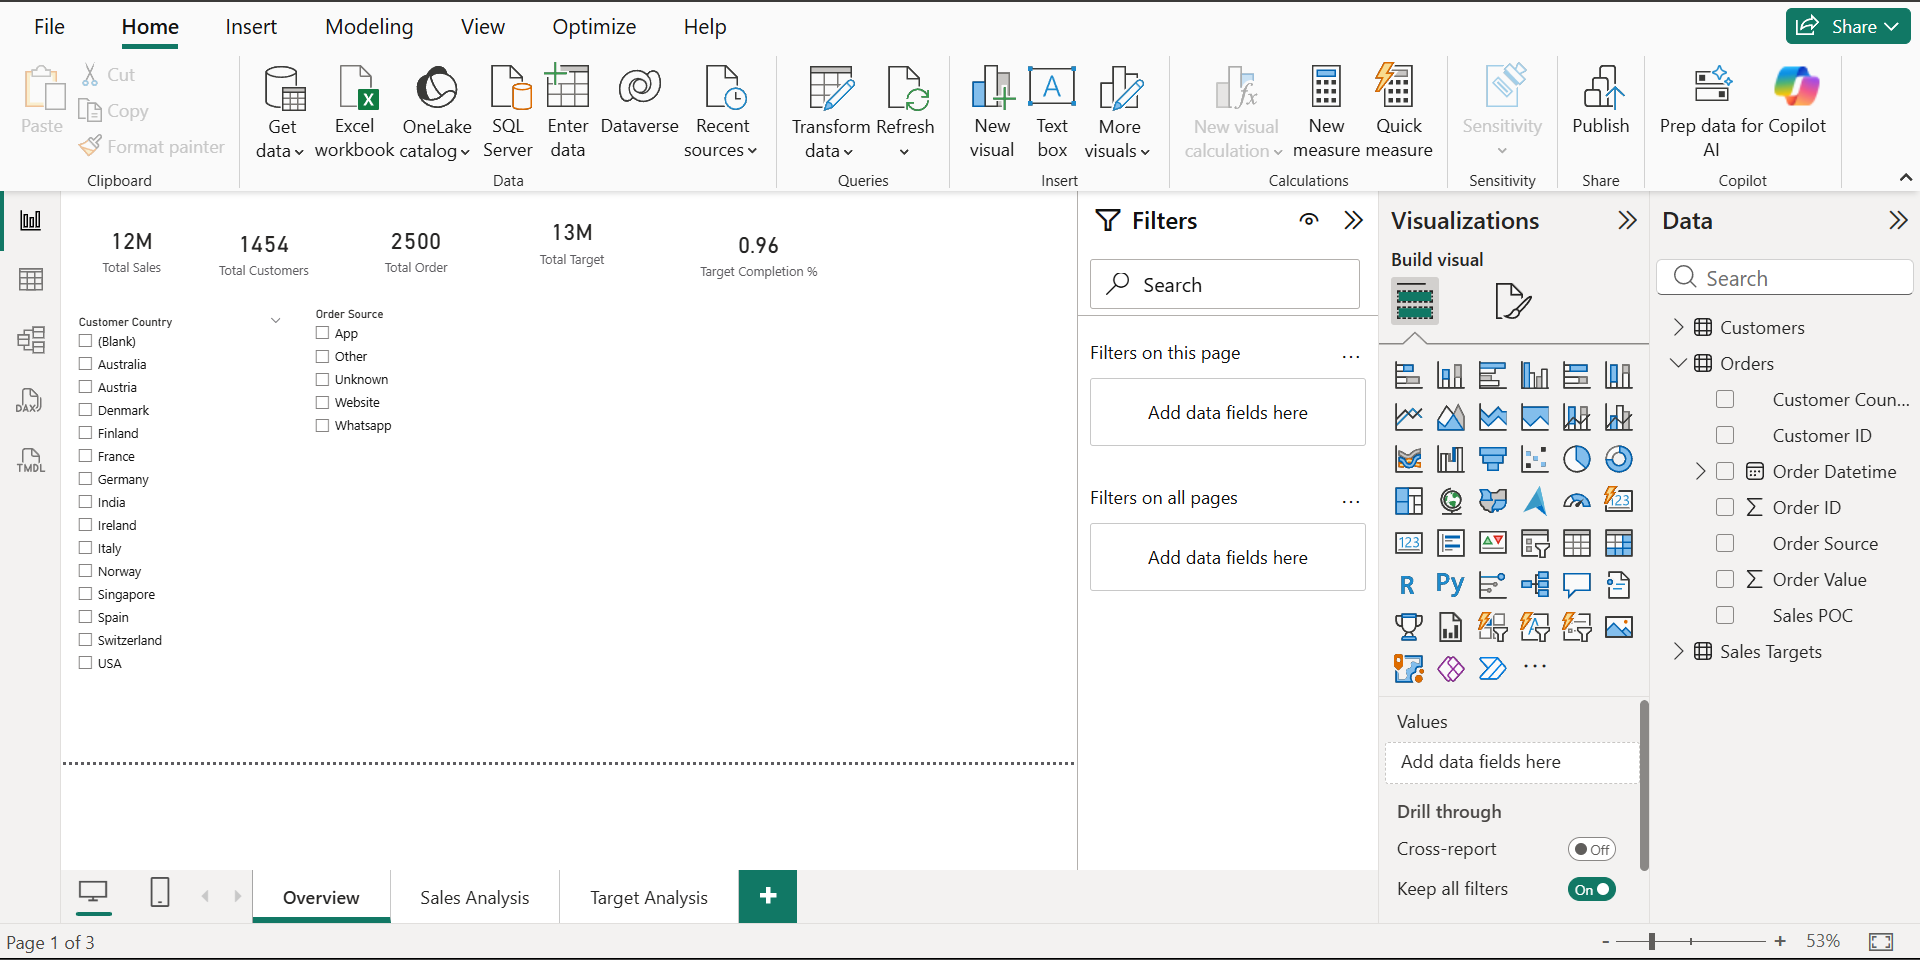

Layout of this report page (visuals, bound fields, positions):
{"tool":"powerbi","page":{"name":"Overview","canvas":[1280,720],"ordinal":0},"visuals":[{"type":"card","fields":{"Values":["Customers.Total Sales"]},"box":[9.4,0,158.7,141.7],"z":0},{"type":"card","fields":{"Values":["Customers.Total Order"]},"box":[360.9,0,172,141.7],"z":1000},{"type":"card","fields":{"Values":["Customers.Total Customers"]},"box":[149.3,0,211.7,149.3],"z":2000},{"type":"card","fields":{"Values":["Customers.Total Target"]},"box":[548,0,190.9,120.9],"z":3000},{"type":"card","fields":{"Values":["Customers.Target Completion %"]},"box":[738.9,1.9,279.7,149.3],"z":4000},{"type":"slicer","fields":{"Values":["Orders.Customer Country"]},"box":[9.4,151.2,279.7,512.1],"z":4001},{"type":"slicer","fields":{"Values":["Orders.Order Source"]},"box":[308,141.7,279.7,196.5],"z":4002}]}

Visuals, with their boxes on the page's 1280x720 design canvas (x1, y1, x2, y2). These are canvas units, not pixel positions in the 1920x960 screenshot, which may show the page scaled, cropped or inside an application window:
card - Customers.Total Sales: [x1=9, y1=0, x2=168, y2=142]
card - Customers.Total Order: [x1=361, y1=0, x2=533, y2=142]
card - Customers.Total Customers: [x1=149, y1=0, x2=361, y2=149]
card - Customers.Total Target: [x1=548, y1=0, x2=739, y2=121]
card - Customers.Target Completion %: [x1=739, y1=2, x2=1019, y2=151]
slicer - Orders.Customer Country: [x1=9, y1=151, x2=289, y2=663]
slicer - Orders.Order Source: [x1=308, y1=142, x2=588, y2=338]
